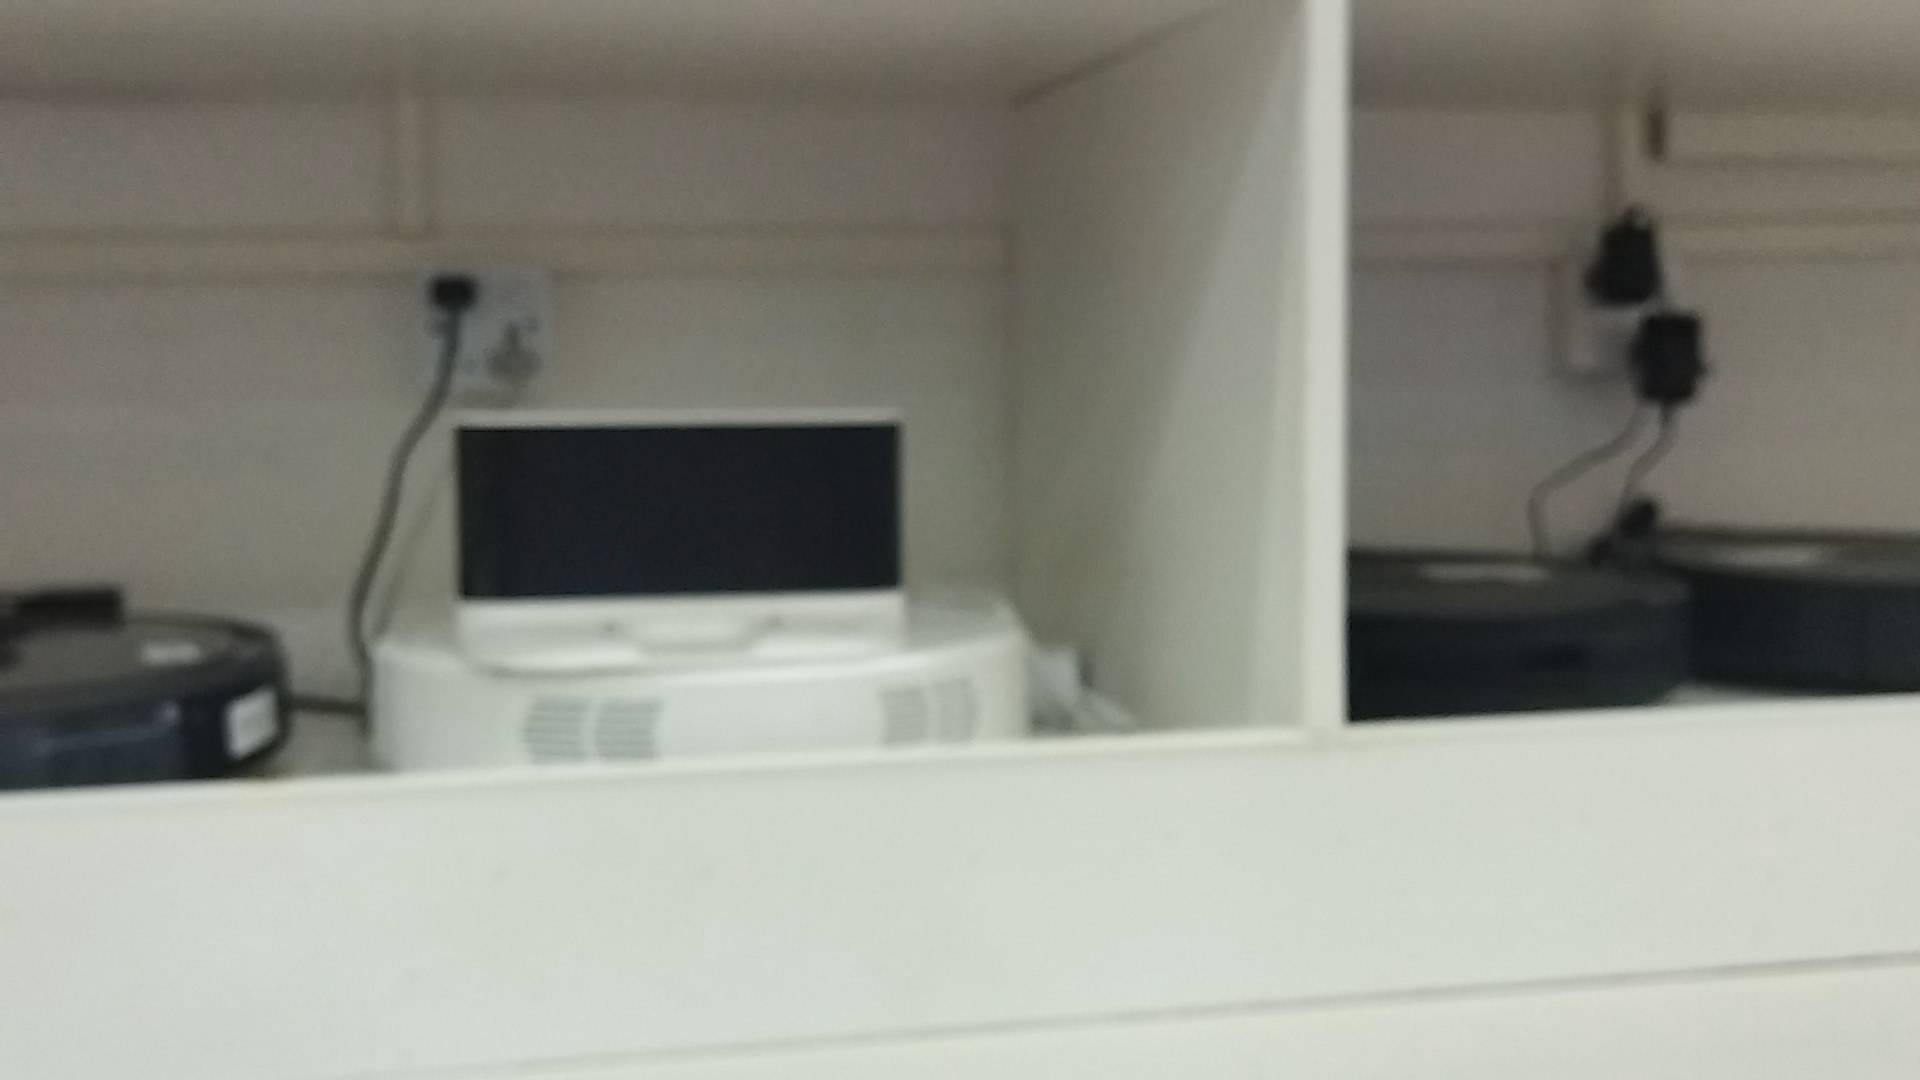recharge seat: (448, 404, 910, 676)
